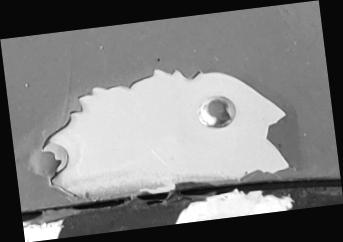paint-off: (1, 1, 343, 242)
